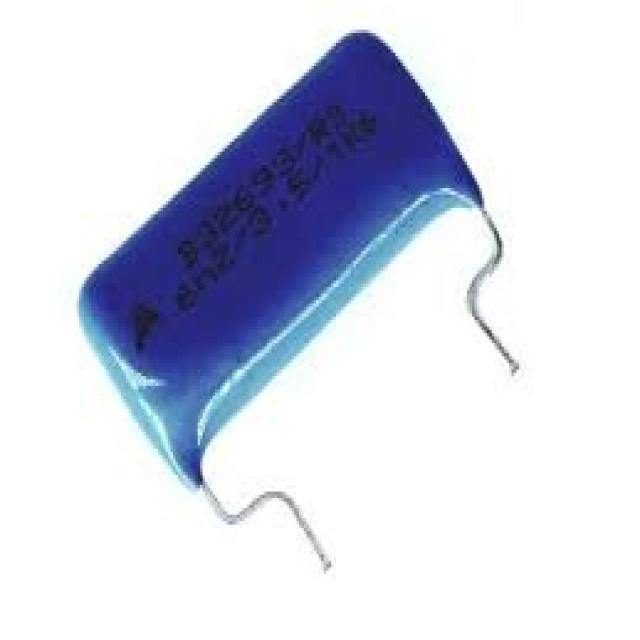Resistor: (77, 30, 497, 492)
